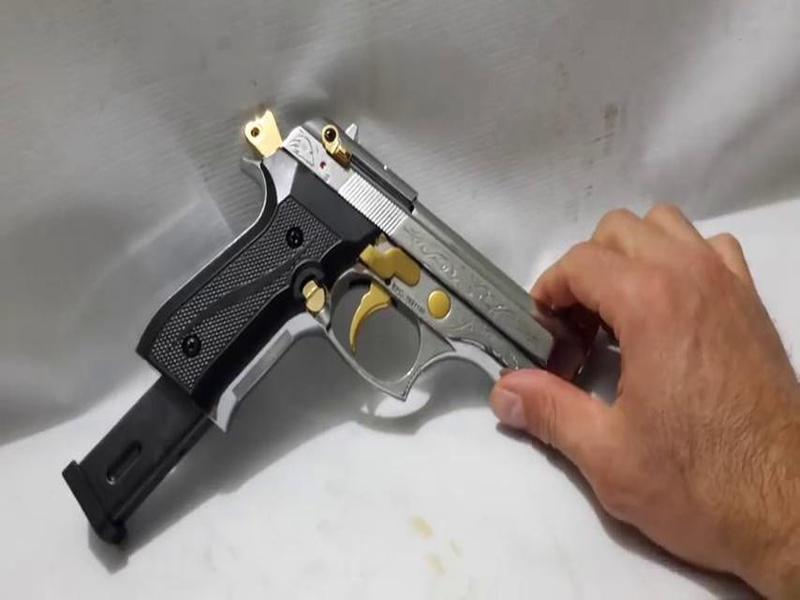Pistola: (157, 111, 605, 448)
